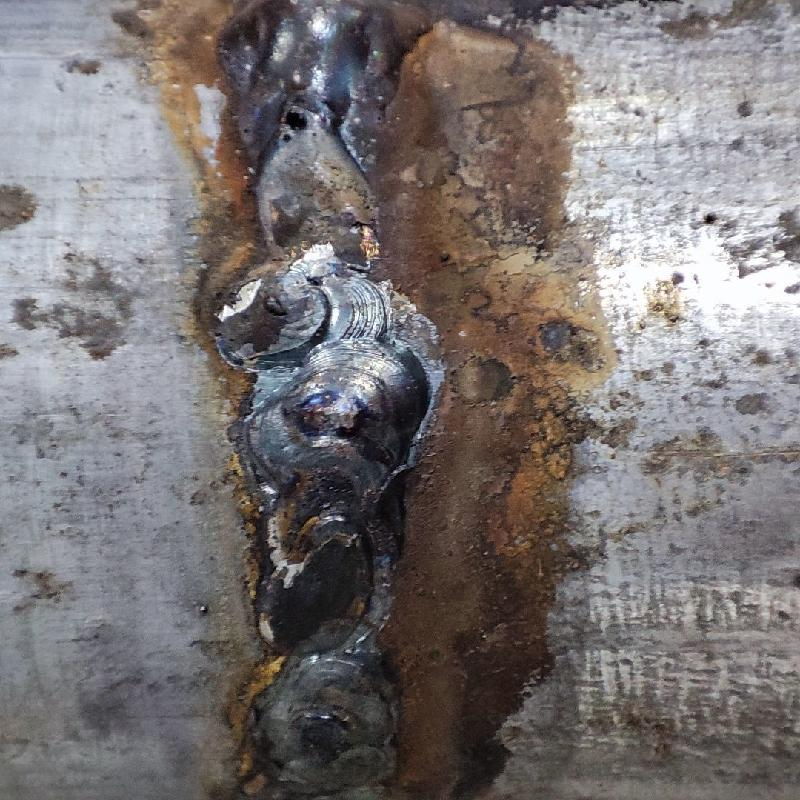Not_fully_soldered: (238, 88, 380, 257)
Surface_pores: (272, 99, 333, 151)
wrong_size: (216, 268, 426, 797)
